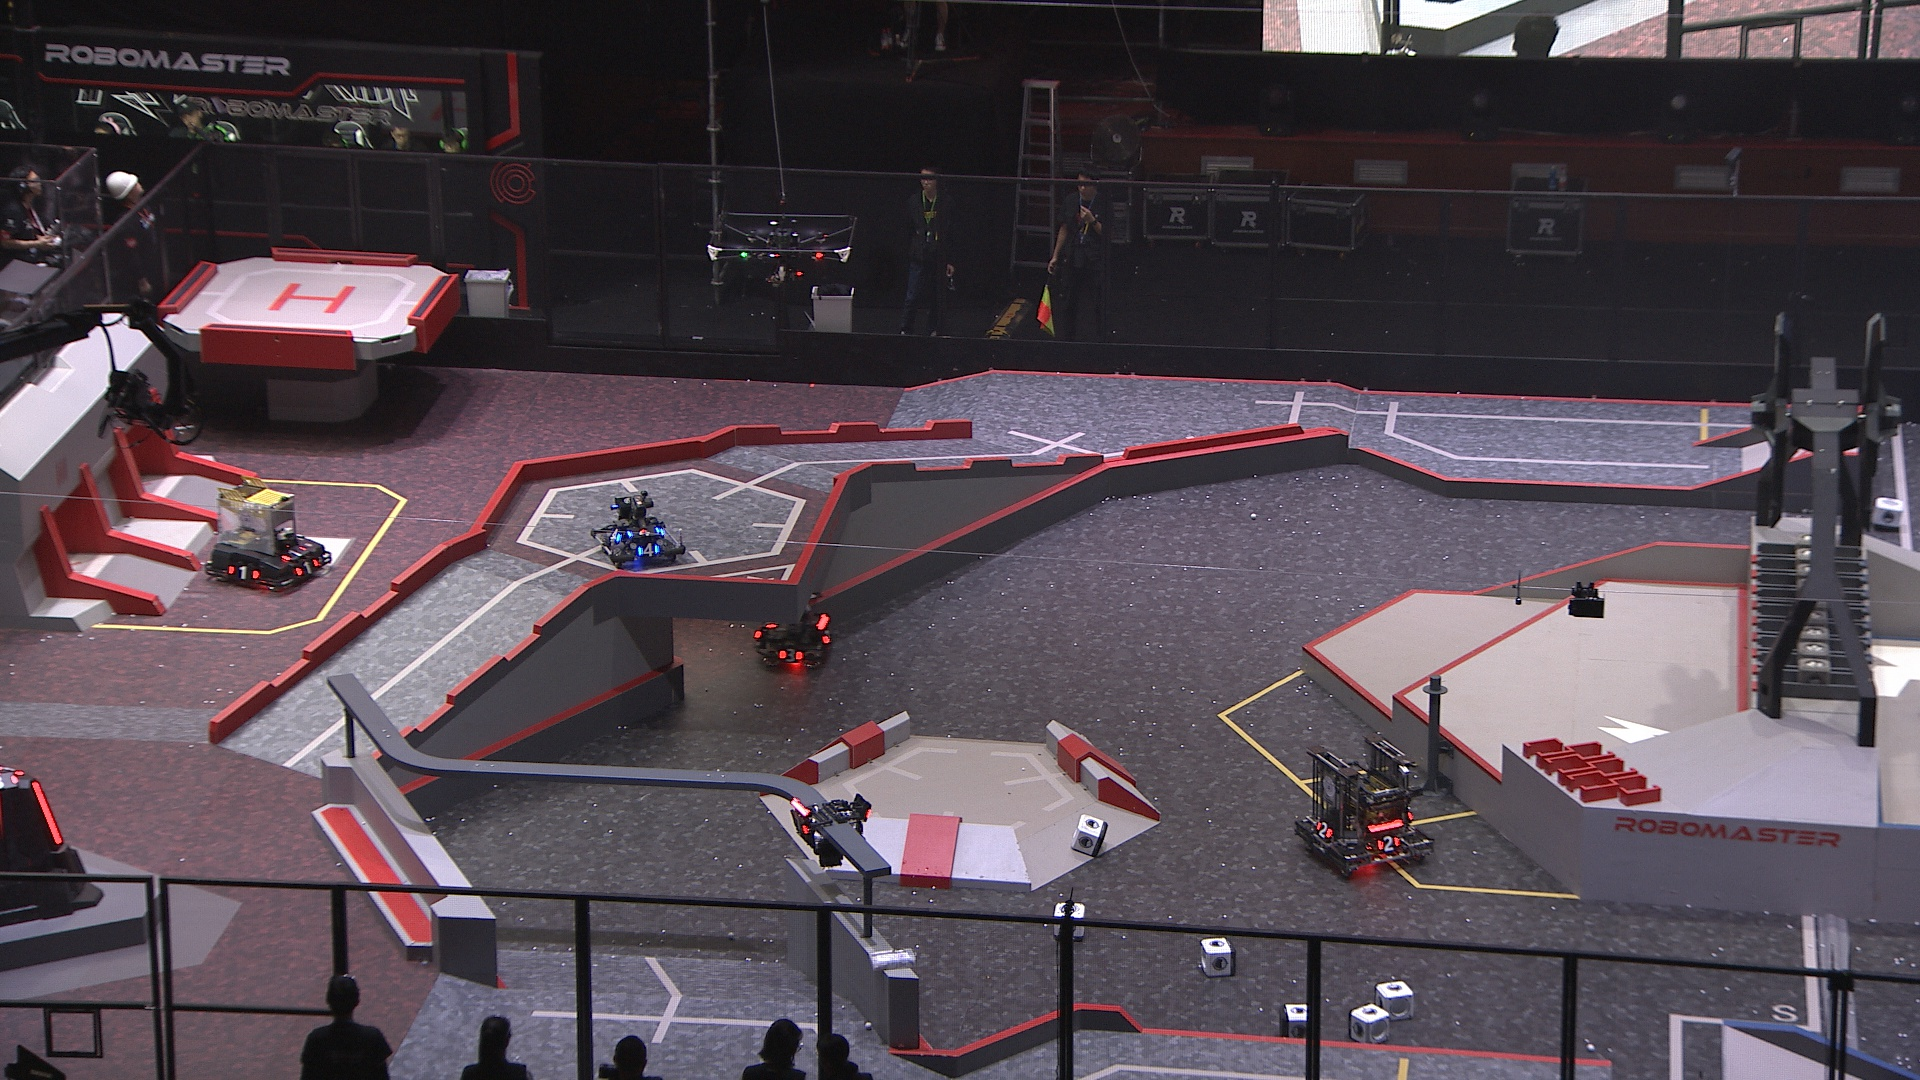armor: (30, 777, 63, 847), (278, 541, 313, 564), (622, 524, 665, 541), (774, 645, 804, 669), (291, 556, 323, 579), (225, 560, 258, 582), (789, 808, 808, 840), (1375, 835, 1403, 853), (637, 541, 662, 556), (1313, 822, 1333, 839), (607, 524, 624, 543), (820, 624, 835, 646)
car: (1292, 731, 1437, 880), (200, 473, 338, 593), (588, 487, 688, 568), (749, 593, 839, 674)
watcher: (785, 789, 873, 870)
